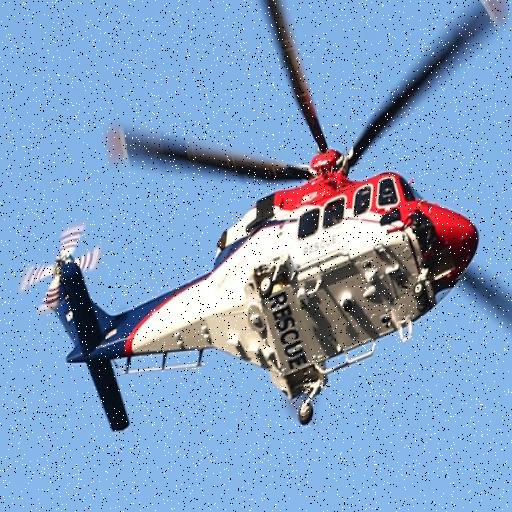helicopter: (11, 1, 512, 436)
